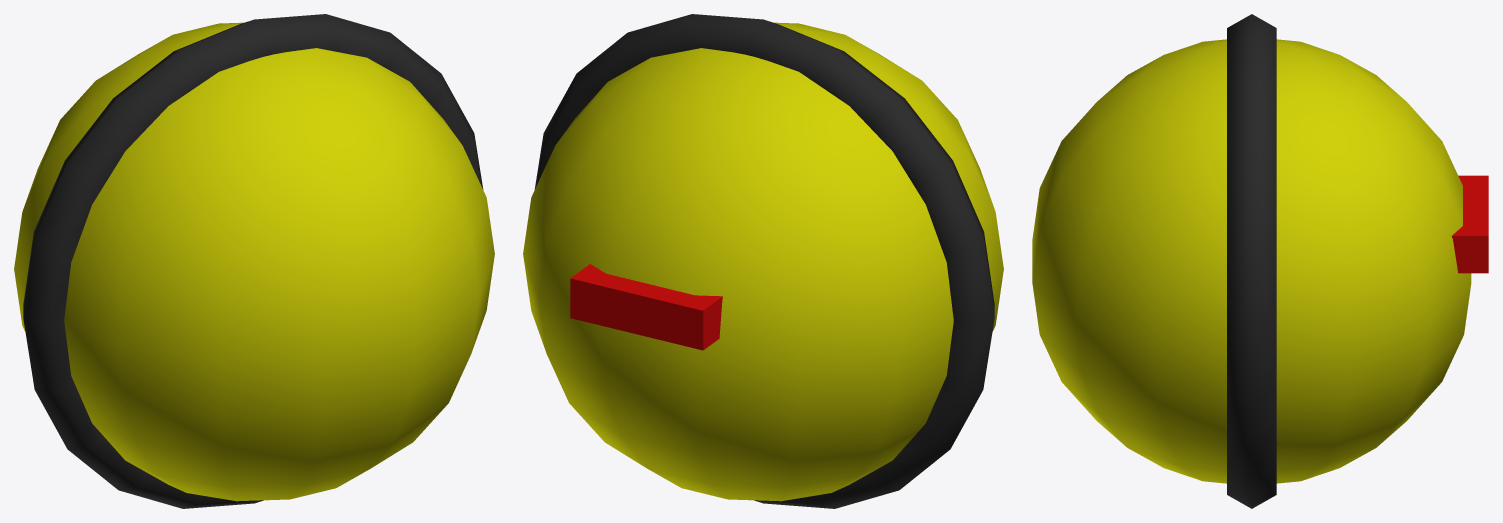
File: enemy_orbiter_bit.obj
3 views of the same model, side by side, from view 1: azimuth 30°, elevation 25°; view 2: azimuth 150°, elevation 25°; view 3: azimuth 270°, elevation 25° (orthographic). The views are drawn at different scales.
Parts seen in each view (by area): view 1: bit, band; view 2: bit, band, eye; view 3: bit, band, eye.
Part boxes in pixels (bbox=[...]): bit: bbox=[14, 22, 494, 501]; band: bbox=[23, 14, 483, 508]; bit: bbox=[523, 22, 1003, 501]; band: bbox=[534, 14, 994, 508]; eye: bbox=[570, 264, 722, 350]; bit: bbox=[1032, 39, 1471, 483]; band: bbox=[1227, 14, 1276, 508]; eye: bbox=[1451, 175, 1488, 273].
Bounding box in the file's own units: 0.2436 × 0.2436 × 0.2228.
